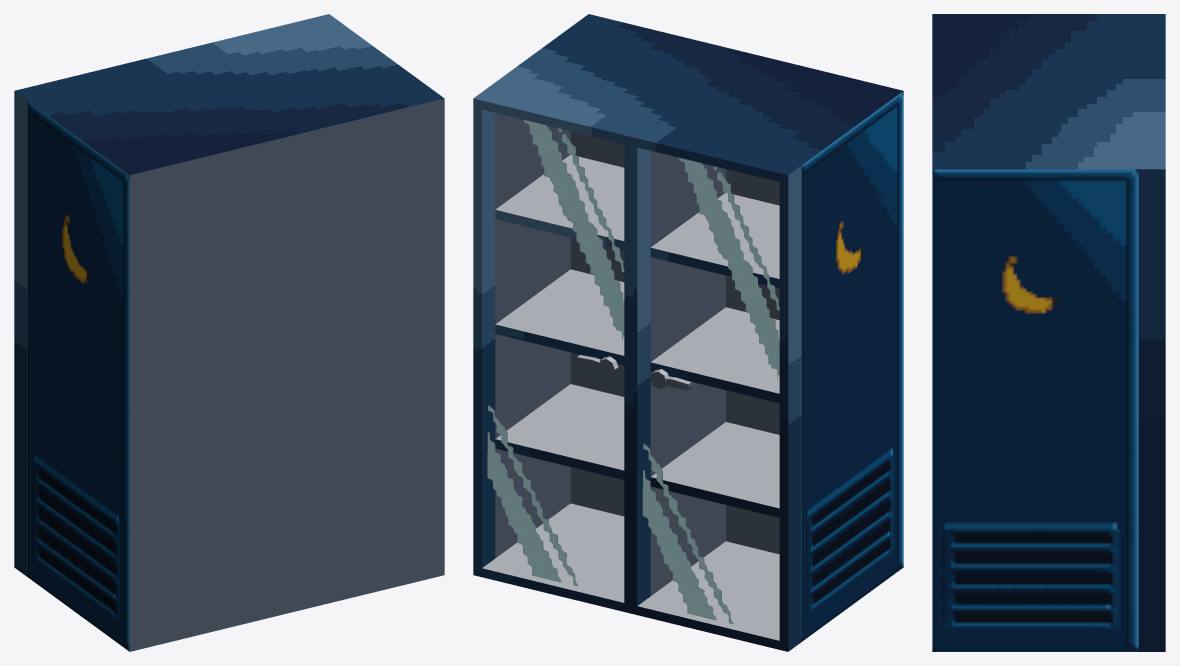
The model's file is fridge.fbx.
The picture shows the model from 3 angles, left to right: view 1: azimuth 30°, elevation 25°; view 2: azimuth 150°, elevation 25°; view 3: azimuth 270°, elevation 25°; orthographic projection.
Visible parts, largest first — view 1: Cube.007; view 2: Cube.007, Cube.008; view 3: Cube.007.
Boxes of the visible parts, box(x1,y1,x2,y2) form: Cube.007: box(14, 14, 444, 651); Cube.007: box(473, 14, 903, 651); Cube.008: box(487, 120, 779, 623); Cube.007: box(932, 14, 1165, 651).
Bounding box in the file's own units: 356 × 515 × 226.
